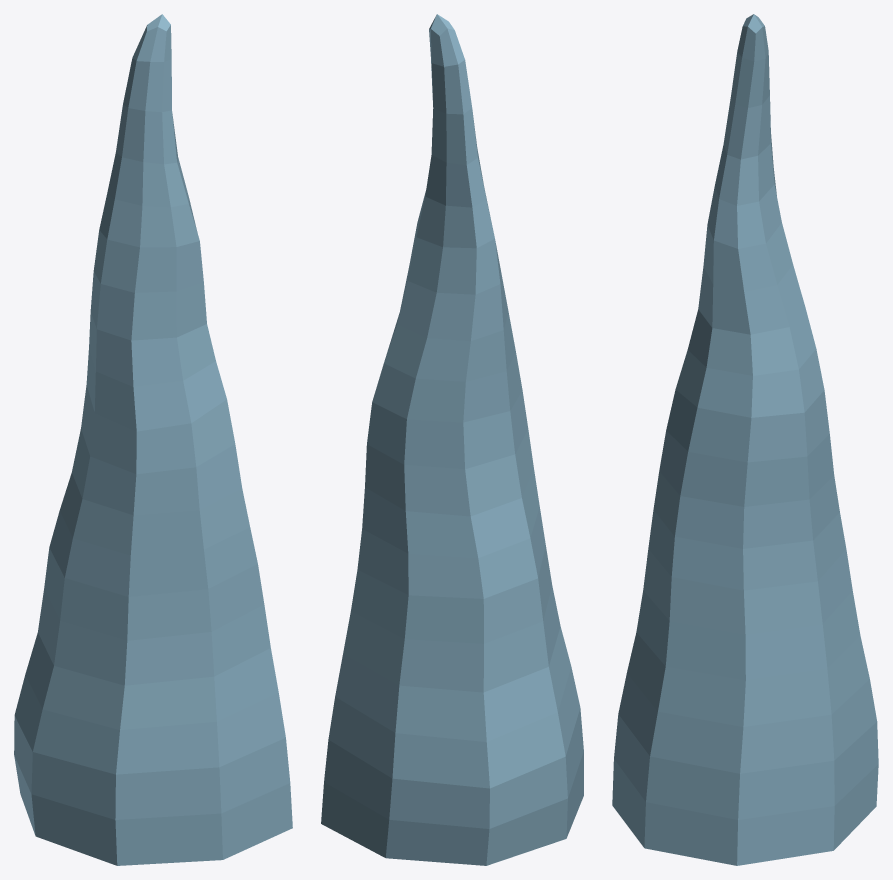
File: Stalactite.fbx
3 views of the same model, side by side, from view 1: azimuth 30°, elevation 25°; view 2: azimuth 150°, elevation 25°; view 3: azimuth 270°, elevation 25° (orthographic).
Parts seen in each view (by area): view 1: Stalagtite; view 2: Stalagtite; view 3: Stalagtite.
Boxes of the visible parts, x1,y1,x2,y2 form: Stalagtite: [14, 14, 292, 865]; Stalagtite: [321, 14, 583, 865]; Stalagtite: [612, 14, 878, 865].
Size of the model in its own units: 32.26 by 103 by 31.02.
